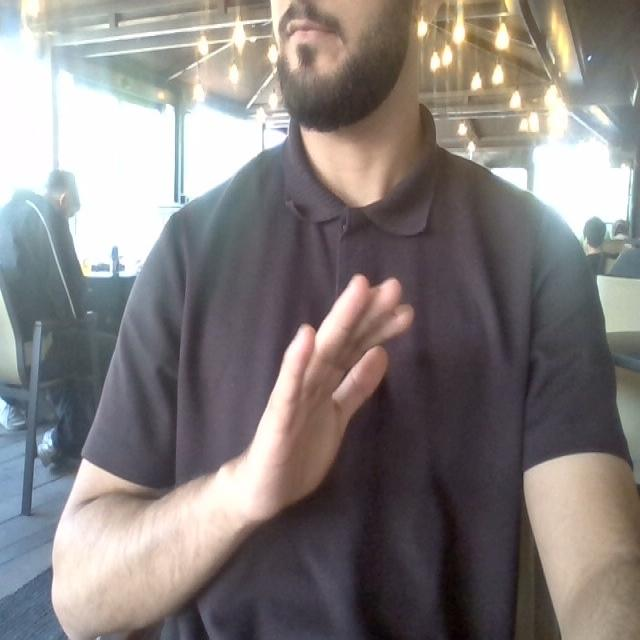Hand: (233, 275, 412, 521)
